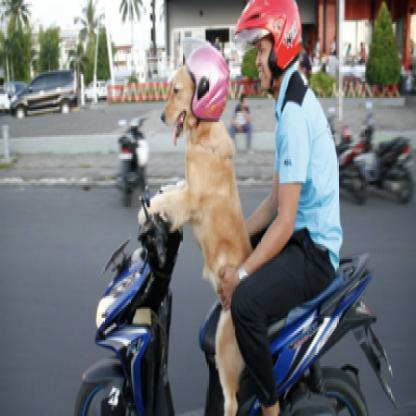With Helmet: (237, 0, 300, 95)
